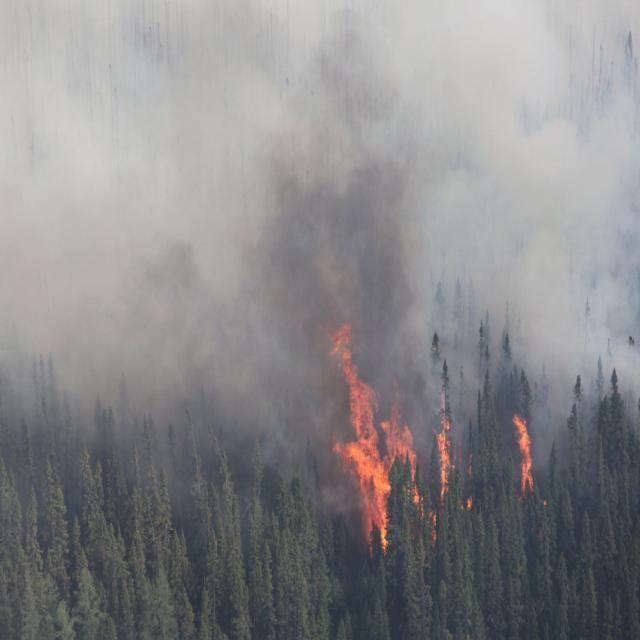Fire: (324, 322, 544, 552)
Smoke: (0, 0, 640, 460)
